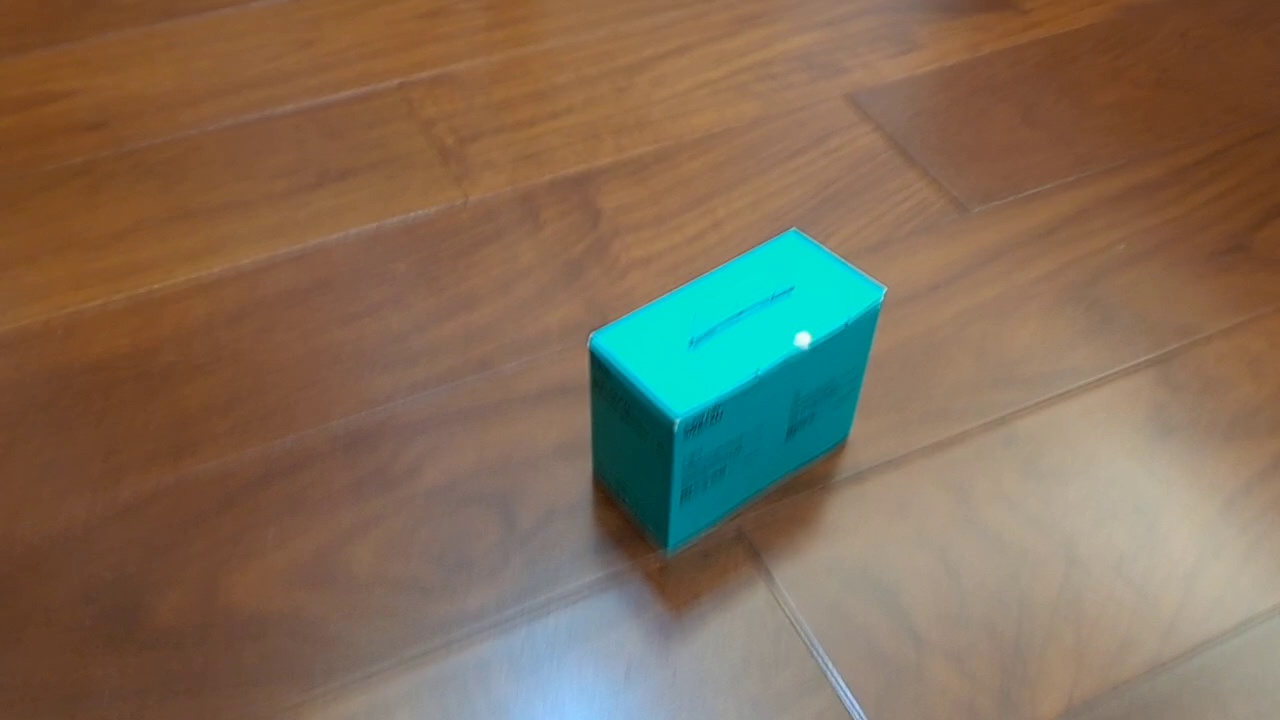webcam: (584, 225, 889, 561)
